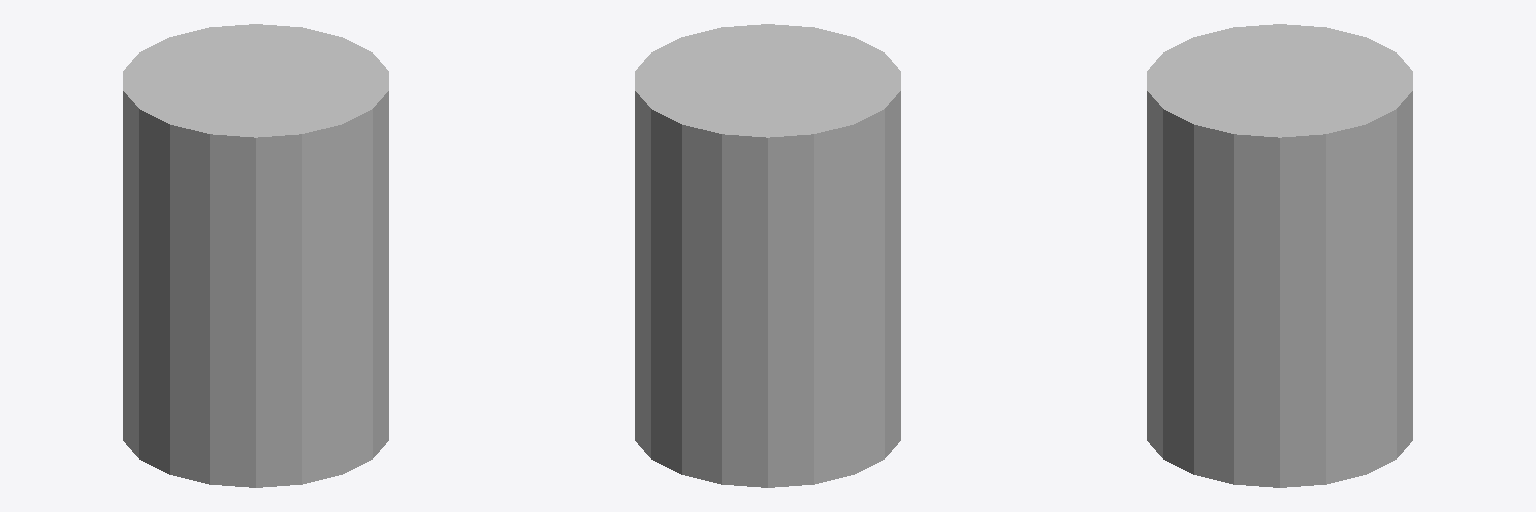
File: Cylinder Capped.obj
The picture shows the model from 3 angles: view 1: azimuth 30°, elevation 25°; view 2: azimuth 150°, elevation 25°; view 3: azimuth 270°, elevation 25°; orthographic projection.
Parts seen in each view (by area): view 1: Cylinder001; view 2: Cylinder001; view 3: Cylinder001.
Boxes of the visible parts, <box> form: Cylinder001: <box>123,24,388,487</box>; Cylinder001: <box>635,24,900,487</box>; Cylinder001: <box>1147,24,1412,487</box>.
Size of the model in its own units: 21.77 by 31.27 by 21.44.